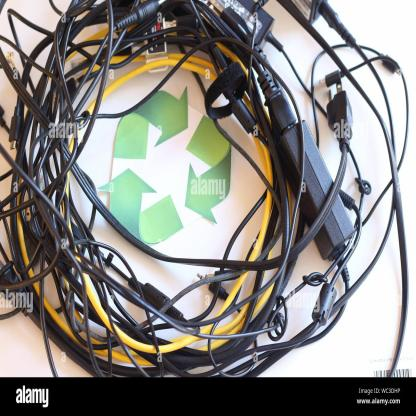wires: (1, 1, 416, 379)
